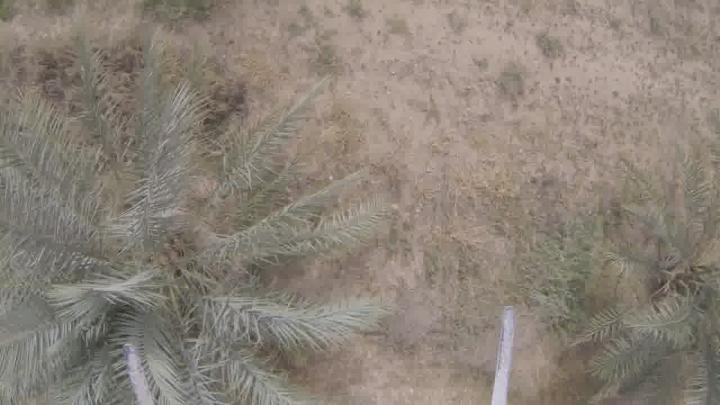Date-Palm-Crown: (11, 139, 280, 397), (628, 196, 720, 366)
